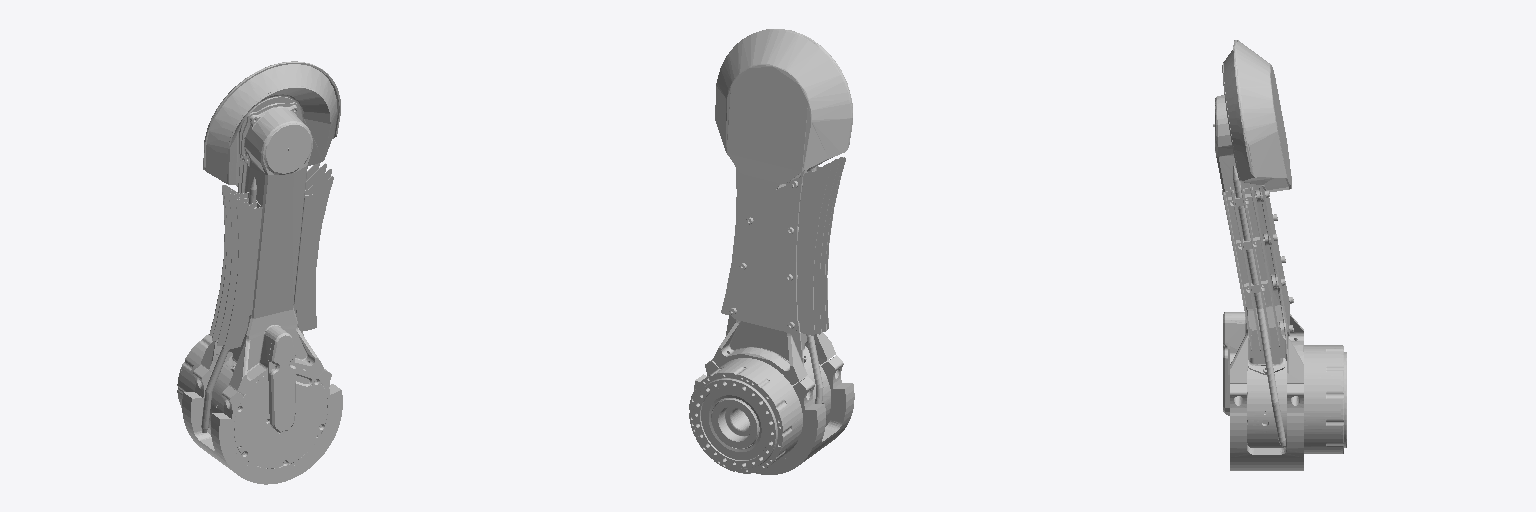
Rendered from anymal_thigh_l.obj.
3 views of the same model, side by side, from view 1: azimuth 30°, elevation 25°; view 2: azimuth 150°, elevation 25°; view 3: azimuth 270°, elevation 25° (orthographic).
Parts seen in each view (by area): view 1: _42196_00-ASM_ANYmal_thigh_left_EDI_003_042196_00-ASM_ANYmal_thi, _42196_00-ASM_ANYmal_thigh_left_EDI_004_042196_00-ASM_ANYmal_thi, _42196_00-ASM_ANYmal_thigh_left_EDI_002_042196_00-ASM_ANYmal_thi, _42196_00-ASM_ANYmal_thigh_left_EDI_009_042196_00-ASM_ANYmal_thi, _42196_00-ASM_ANYmal_thigh_left_EDI_006_042196_00-ASM_ANYmal_thi, _42196_00-ASM_ANYmal_thigh_left_EDI_007_042196_00-ASM_ANYmal_thi, _42196_00-ASM_ANYmal_thigh_left_EDI_005_042196_00-ASM_ANYmal_thi; view 2: _42196_00-ASM_ANYmal_thigh_left_EDI_002_042196_00-ASM_ANYmal_thi, _42196_00-ASM_ANYmal_thigh_left_EDI_009_042196_00-ASM_ANYmal_thi, _42196_00-ASM_ANYmal_thigh_left_EDI_001_042196_00-ASM_ANYmal_thi, _42196_00-ASM_ANYmal_thigh_left_EDI_004_042196_00-ASM_ANYmal_thi, _42196_00-ASM_ANYmal_thigh_left_EDI_003_042196_00-ASM_ANYmal_thi, _42196_00-ASM_ANYmal_thigh_left_EDI_006_042196_00-ASM_ANYmal_thi, _42196_00-ASM_ANYmal_thigh_left_EDI_007_042196_00-ASM_ANYmal_thi, _42196_00-ASM_ANYmal_thigh_left_EDI_005_042196_00-ASM_ANYmal_thi; view 3: _42196_00-ASM_ANYmal_thigh_left_EDI_002_042196_00-ASM_ANYmal_thi, _42196_00-ASM_ANYmal_thigh_left_EDI_009_042196_00-ASM_ANYmal_thi, _42196_00-ASM_ANYmal_thigh_left_EDI_003_042196_00-ASM_ANYmal_thi, _42196_00-ASM_ANYmal_thigh_left_EDI_004_042196_00-ASM_ANYmal_thi, _42196_00-ASM_ANYmal_thigh_left_EDI_006_042196_00-ASM_ANYmal_thi, _42196_00-ASM_ANYmal_thigh_left_EDI_005_042196_00-ASM_ANYmal_thi, _42196_00-ASM_ANYmal_thigh_left_EDI_007_042196_00-ASM_ANYmal_thi, _42196_00-ASM_ANYmal_thigh_left_EDI_001_042196_00-ASM_ANYmal_thi.
Part boxes in pixels (left/top/right/bottom): _42196_00-ASM_ANYmal_thigh_left_EDI_003_042196_00-ASM_ANYmal_thi: left=201, top=102, right=323, bottom=433; _42196_00-ASM_ANYmal_thigh_left_EDI_004_042196_00-ASM_ANYmal_thi: left=209, top=163, right=333, bottom=350; _42196_00-ASM_ANYmal_thigh_left_EDI_002_042196_00-ASM_ANYmal_thi: left=203, top=61, right=340, bottom=186; _42196_00-ASM_ANYmal_thigh_left_EDI_009_042196_00-ASM_ANYmal_thi: left=177, top=334, right=327, bottom=468; _42196_00-ASM_ANYmal_thigh_left_EDI_006_042196_00-ASM_ANYmal_thi: left=182, top=384, right=342, bottom=484; _42196_00-ASM_ANYmal_thigh_left_EDI_007_042196_00-ASM_ANYmal_thi: left=193, top=365, right=331, bottom=471; _42196_00-ASM_ANYmal_thigh_left_EDI_005_042196_00-ASM_ANYmal_thi: left=201, top=177, right=303, bottom=432; _42196_00-ASM_ANYmal_thigh_left_EDI_002_042196_00-ASM_ANYmal_thi: left=715, top=29, right=852, bottom=189; _42196_00-ASM_ANYmal_thigh_left_EDI_009_042196_00-ASM_ANYmal_thi: left=689, top=352, right=830, bottom=473; _42196_00-ASM_ANYmal_thigh_left_EDI_001_042196_00-ASM_ANYmal_thi: left=729, top=174, right=803, bottom=332; _42196_00-ASM_ANYmal_thigh_left_EDI_004_042196_00-ASM_ANYmal_thi: left=721, top=157, right=845, bottom=335; _42196_00-ASM_ANYmal_thigh_left_EDI_003_042196_00-ASM_ANYmal_thi: left=713, top=183, right=835, bottom=384; _42196_00-ASM_ANYmal_thigh_left_EDI_006_042196_00-ASM_ANYmal_thi: left=694, top=374, right=854, bottom=474; _42196_00-ASM_ANYmal_thigh_left_EDI_007_042196_00-ASM_ANYmal_thi: left=705, top=355, right=843, bottom=461; _42196_00-ASM_ANYmal_thigh_left_EDI_005_042196_00-ASM_ANYmal_thi: left=806, top=166, right=823, bottom=403; _42196_00-ASM_ANYmal_thigh_left_EDI_002_042196_00-ASM_ANYmal_thi: left=1222, top=40, right=1291, bottom=192; _42196_00-ASM_ANYmal_thigh_left_EDI_009_042196_00-ASM_ANYmal_thi: left=1247, top=345, right=1346, bottom=453; _42196_00-ASM_ANYmal_thigh_left_EDI_003_042196_00-ASM_ANYmal_thi: left=1215, top=95, right=1303, bottom=415; _42196_00-ASM_ANYmal_thigh_left_EDI_004_042196_00-ASM_ANYmal_thi: left=1222, top=185, right=1279, bottom=350; _42196_00-ASM_ANYmal_thigh_left_EDI_006_042196_00-ASM_ANYmal_thi: left=1230, top=413, right=1303, bottom=470; _42196_00-ASM_ANYmal_thigh_left_EDI_005_042196_00-ASM_ANYmal_thi: left=1233, top=166, right=1285, bottom=446; _42196_00-ASM_ANYmal_thigh_left_EDI_007_042196_00-ASM_ANYmal_thi: left=1230, top=384, right=1303, bottom=412; _42196_00-ASM_ANYmal_thigh_left_EDI_001_042196_00-ASM_ANYmal_thi: left=1261, top=186, right=1289, bottom=335.
Size of the model in its own units: 130 by 380 by 110.